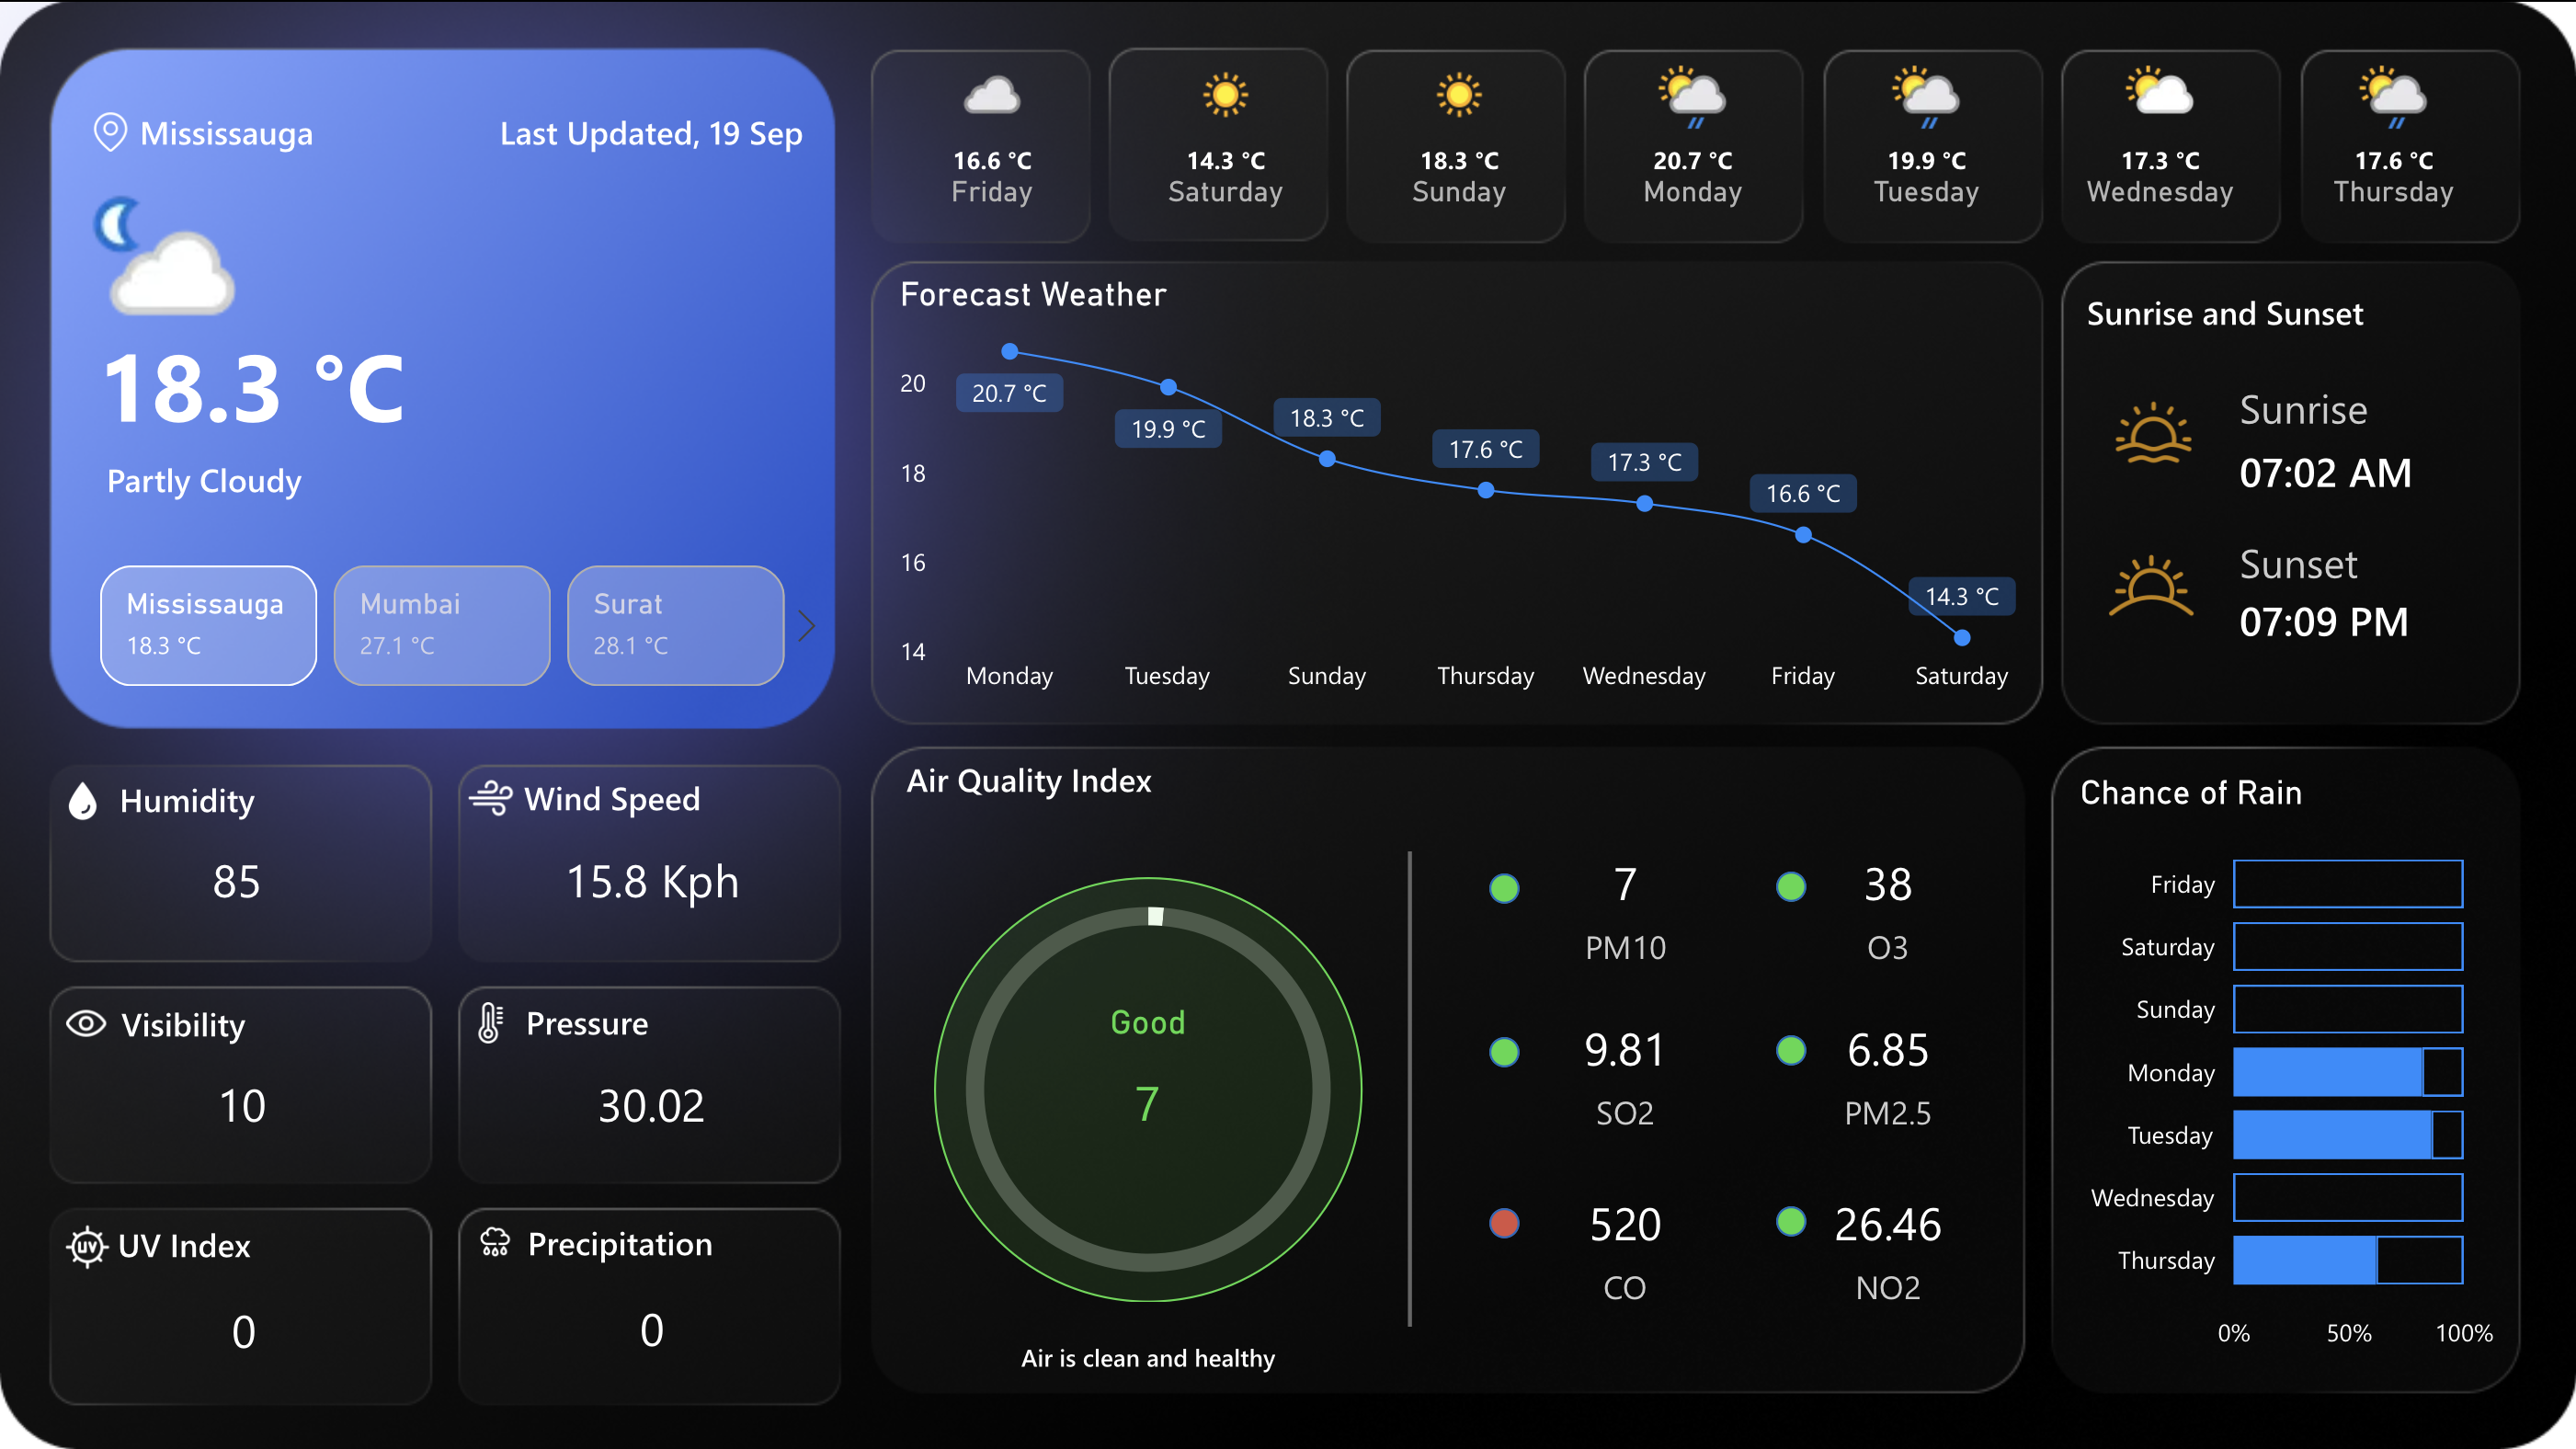

The page's visual inventory and layout, read from the dashboard file:
{"tool":"powerbi","page":{"name":"Page 1","canvas":[1280,720],"ordinal":0},"visuals":[{"type":"advancedSlicerVisual","fields":{"Values":["Locations.location.name"]},"box":[25.6,275,391.1,70],"z":0},{"type":"shape","box":[53.6,221.1,163.4,32.2],"z":1000},{"type":"shape","box":[49.2,158.3,163.3,63.3],"z":2000},{"type":"shape","box":[70.6,48.3,141.1,32.2],"z":3000},{"type":"shape","box":[236.4,48.3,163.4,32.2],"z":4000},{"type":"image","box":[41.4,48.6,29.3,32.1],"z":5000},{"type":"cardVisual","fields":{"Data":["Min(Current.current.condition.icon)"]},"box":[16.4,74.3,107.9,95.7],"z":6000},{"type":"shape","box":[60,380,149.3,32.1],"z":7000},{"type":"image","box":[32,494.3,23.6,26.4],"z":8000},{"type":"shape","box":[60.7,491.4,149.3,32.1],"z":9000},{"type":"image","box":[32.1,385.7,20,23],"z":10000},{"type":"shape","box":[59.3,600.7,149.3,32.1],"z":11000},{"type":"image","box":[32.9,605.7,22.9,25.7],"z":12000},{"type":"shape","box":[260.7,379.3,149.3,32.1],"z":13000},{"type":"image","box":[232.9,382.1,23.6,25.7],"z":14000},{"type":"shape","box":[262.1,490,149.3,32.1],"z":15000},{"type":"shape","box":[262.9,600,149.3,32.1],"z":16000},{"type":"image","box":[232.9,496.4,22.9,25.7],"z":17000},{"type":"image","box":[233,603,22.9,25.7],"z":18000},{"type":"card","fields":{"Values":["Sum(Current.current.humidity)"]},"box":[25.8,409.2,186.7,55.8],"z":19000},{"type":"card","fields":{"Values":["_Measures.Wind_ Speed"]},"box":[232.5,409.2,184.2,55.8],"z":20000},{"type":"card","fields":{"Values":["Sum(Current.current.pressure_in)"]},"box":[232.5,520.8,184.2,55.8],"z":21000},{"type":"card","fields":{"Values":["Sum(Current.current.precip_in)"]},"box":[232.5,631.7,184.2,55.8],"z":22000},{"type":"card","fields":{"Values":["Sum(Current.current.vis_km)"]},"box":[25.8,520.8,190.8,55.8],"z":23000},{"type":"card","fields":{"Values":["Sum(Current.current.uv)"]},"box":[31.7,632.5,180.8,55.8],"z":24000},{"type":"advancedSlicerVisual","fields":{"Values":["Forecast_ Day.Day_Name"]},"box":[434.2,20,818.3,102.5],"z":25000},{"type":"lineChart","title":"Forecast Weather","fields":{"Category":["Forecast_ Day.Day_Name"],"Y":["Sum(Forecast_ Day.forecast.forecastday.day.avgtemp_c)"]},"box":[442.9,138.3,569,214.9],"z":26000},{"type":"shape","box":[1037.4,138.1,149.7,32.3],"z":27000},{"type":"shape","box":[1112.7,200.9,139.9,63.1],"z":28000},{"type":"shape","box":[1112.7,275.2,139.9,63.1],"z":29000},{"type":"shape","box":[1112.7,168.6,139.9,63.7],"z":30000},{"type":"shape","box":[1112.7,245.5,139.9,63.7],"z":31000},{"type":"image","box":[1043.7,190.1,52.9,47.5],"z":32000},{"type":"image","box":[1041,260,58.3,52],"z":33000},{"type":"hundredPercentStackedBarChart","title":"Chance of Rain","fields":{"Y":["Sum(Forecast_ Day.forecast.forecastday.day.daily_chance_of_rain)","_Measures.Left_value_Rain"],"Category":["Forecast_ Day.Day_Name"]},"box":[1029.3,385.6,215.2,294.1],"z":34000},{"type":"shape","box":[450.6,370.1,149.8,32.2],"z":35000},{"type":"card","fields":{"Values":["Sum(Current.current.air_quality.o3)"]},"box":[887.6,408.5,102.7,81.7],"z":36000},{"type":"card","fields":{"Values":["Sum(Current.current.air_quality.pm2_5)"]},"box":[887.6,490.2,102.7,81.7],"z":37000},{"type":"card","fields":{"Values":["Sum(Current.current.air_quality.no2)"]},"box":[887.6,576.9,102.7,81.7],"z":38000},{"type":"card","fields":{"Values":["Sum(Current.current.air_quality.pm10)"]},"box":[756.5,408.5,102.7,81.7],"z":39000},{"type":"card","fields":{"Values":["Sum(Current.current.air_quality.so2)"]},"box":[756.5,490.2,102.7,81.7],"z":40000},{"type":"card","fields":{"Values":["Sum(Current.current.air_quality.co)"]},"box":[756.5,576.9,102.7,81.7],"z":41000},{"type":"shape","box":[740,433,15,15],"z":42000},{"type":"shape","box":[740,599,15,15],"z":43000},{"type":"shape","box":[740,514,15,15],"z":44000},{"type":"shape","box":[882.9,432,15,15],"z":45000},{"type":"shape","box":[882.9,598,15,15],"z":46000},{"type":"shape","box":[882.9,513,15,15],"z":47000},{"type":"shape","box":[620.2,422.1,162.2,236.4],"z":48000},{"type":"donutChart","fields":{"Y":["Sum(Current.current.air_quality.pm10)","_Measures.Left_value_PM10"]},"box":[450.6,422.1,240.2,236.4],"z":49000},{"type":"shape","box":[464.7,435,212.8,211.2],"z":50000},{"type":"card","fields":{"Values":["Sum(Current.current.air_quality.pm10)"]},"box":[519.5,499.2,103.3,81.4],"z":51000},{"type":"shape","box":[464.7,665,212.8,43.8],"z":52000}]}

Visuals, with their boxes in screenshot pixels (x1, y1, x2, y2), scaled from the page's 1280x720 canvas onto the 2576x1449 screenshot:
advancedSlicerVisual - Locations.location.name: (x1=51, y1=553, x2=838, y2=694)
shape: (x1=108, y1=445, x2=437, y2=509)
shape: (x1=99, y1=319, x2=427, y2=446)
shape: (x1=142, y1=97, x2=426, y2=162)
shape: (x1=475, y1=97, x2=804, y2=162)
image: (x1=84, y1=97, x2=142, y2=163)
cardVisual - Min(Current.current.condition.icon): (x1=33, y1=150, x2=250, y2=342)
shape: (x1=120, y1=765, x2=421, y2=829)
image: (x1=64, y1=995, x2=112, y2=1048)
shape: (x1=122, y1=989, x2=423, y2=1054)
image: (x1=64, y1=776, x2=105, y2=823)
shape: (x1=120, y1=1209, x2=420, y2=1273)
image: (x1=66, y1=1219, x2=112, y2=1271)
shape: (x1=525, y1=763, x2=826, y2=828)
image: (x1=469, y1=769, x2=516, y2=821)
shape: (x1=528, y1=987, x2=828, y2=1051)
shape: (x1=530, y1=1207, x2=829, y2=1272)
image: (x1=469, y1=999, x2=515, y2=1051)
image: (x1=469, y1=1214, x2=515, y2=1265)
card - Sum(Current.current.humidity): (x1=51, y1=824, x2=427, y2=936)
card - _Measures.Wind_ Speed: (x1=468, y1=824, x2=838, y2=936)
card - Sum(Current.current.pressure_in): (x1=468, y1=1048, x2=838, y2=1160)
card - Sum(Current.current.precip_in): (x1=468, y1=1272, x2=838, y2=1384)
card - Sum(Current.current.vis_km): (x1=51, y1=1048, x2=436, y2=1160)
card - Sum(Current.current.uv): (x1=63, y1=1272, x2=427, y2=1386)
advancedSlicerVisual - Forecast_ Day.Day_Name: (x1=873, y1=40, x2=2521, y2=246)
"Forecast Weather" lineChart: (x1=892, y1=279, x2=2036, y2=711)
shape: (x1=2088, y1=278, x2=2389, y2=343)
shape: (x1=2240, y1=405, x2=2521, y2=531)
shape: (x1=2240, y1=553, x2=2521, y2=681)
shape: (x1=2240, y1=339, x2=2521, y2=467)
shape: (x1=2240, y1=494, x2=2521, y2=622)
image: (x1=2101, y1=382, x2=2207, y2=478)
image: (x1=2095, y1=523, x2=2212, y2=628)
"Chance of Rain" hundredPercentStackedBarChart: (x1=2071, y1=776, x2=2504, y2=1368)
shape: (x1=906, y1=745, x2=1208, y2=810)
card - Sum(Current.current.air_quality.o3): (x1=1786, y1=822, x2=1993, y2=987)
card - Sum(Current.current.air_quality.pm2_5): (x1=1786, y1=987, x2=1993, y2=1151)
card - Sum(Current.current.air_quality.no2): (x1=1786, y1=1161, x2=1993, y2=1326)
card - Sum(Current.current.air_quality.pm10): (x1=1522, y1=822, x2=1729, y2=987)
card - Sum(Current.current.air_quality.so2): (x1=1522, y1=987, x2=1729, y2=1151)
card - Sum(Current.current.air_quality.co): (x1=1522, y1=1161, x2=1729, y2=1326)
shape: (x1=1489, y1=872, x2=1520, y2=902)
shape: (x1=1489, y1=1205, x2=1520, y2=1236)
shape: (x1=1489, y1=1034, x2=1520, y2=1065)
shape: (x1=1777, y1=870, x2=1807, y2=899)
shape: (x1=1777, y1=1204, x2=1807, y2=1234)
shape: (x1=1777, y1=1033, x2=1807, y2=1063)
shape: (x1=1248, y1=850, x2=1575, y2=1325)
donutChart - Sum(Current.current.air_quality.pm10) x _Measures.Left_value_PM10: (x1=906, y1=850, x2=1390, y2=1325)
shape: (x1=935, y1=875, x2=1363, y2=1300)
card - Sum(Current.current.air_quality.pm10): (x1=1045, y1=1005, x2=1253, y2=1169)
shape: (x1=935, y1=1339, x2=1363, y2=1426)
